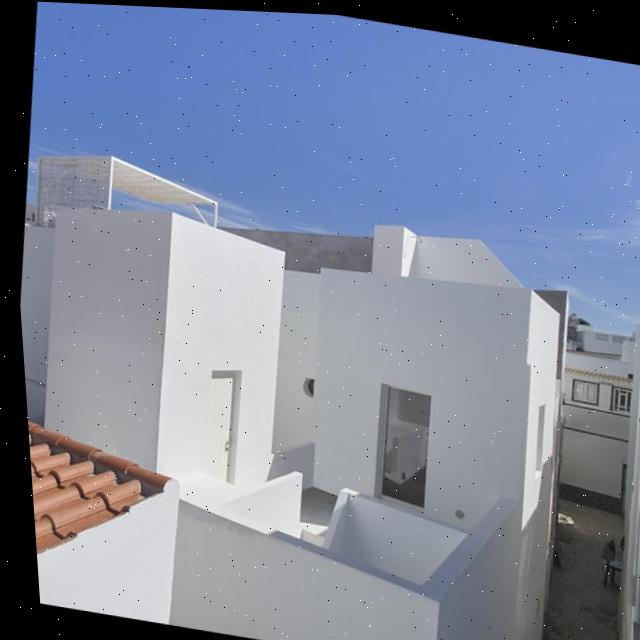building: (10, 150, 598, 640), (545, 317, 640, 510)
